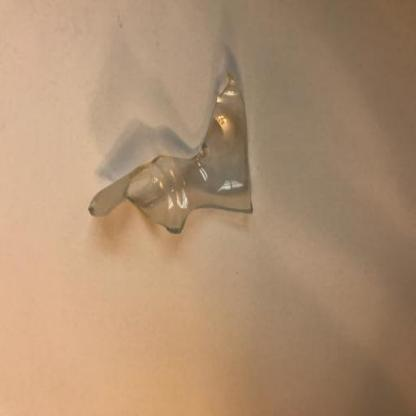trash: (85, 75, 262, 234)
